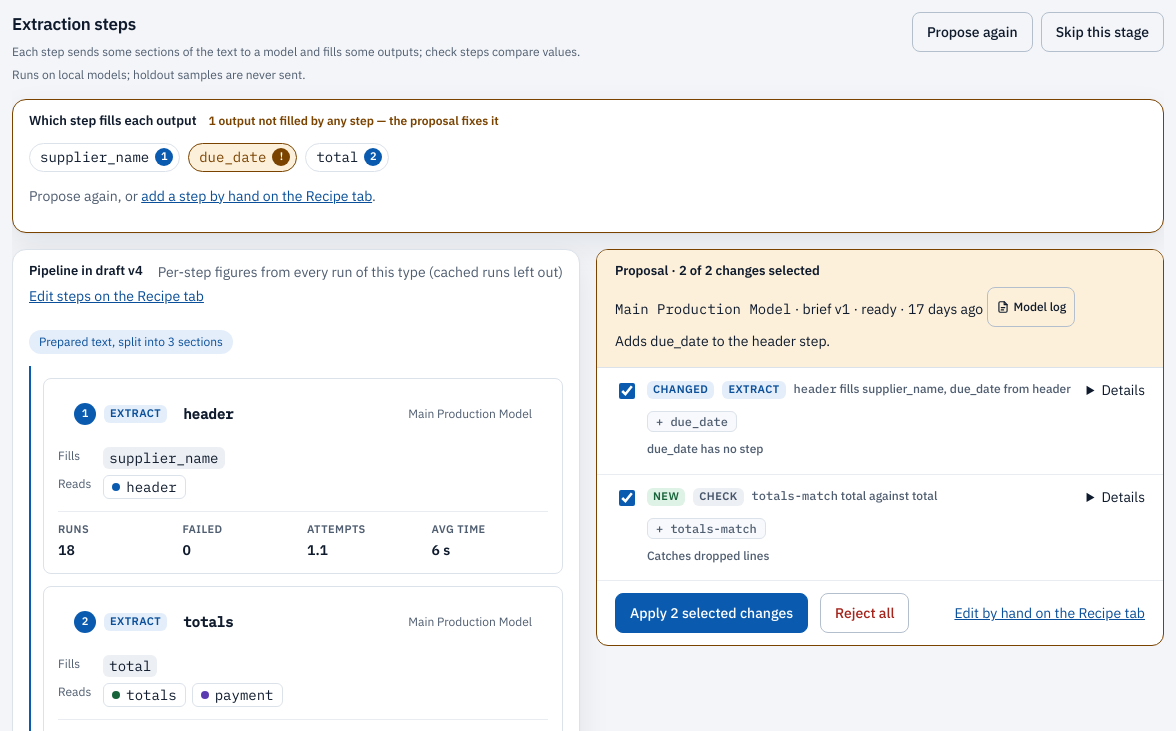
Scenario: Steps tab › shows which step fills each output and whether the proposal fixes the gaps
The width and height of the screenshot is (1176, 731).
Expected: the text "1 output not filled by any step — the proposal fixes it" is shown, left=208, top=112, right=499, bottom=130
Expected: the text "due_date" is shown, left=199, top=147, right=266, bottom=168
Click the checkbox named "Apply: EXTRACT header fills supplier_name, due_date from header" at [627, 391], box left=619, top=383, right=635, bottom=399
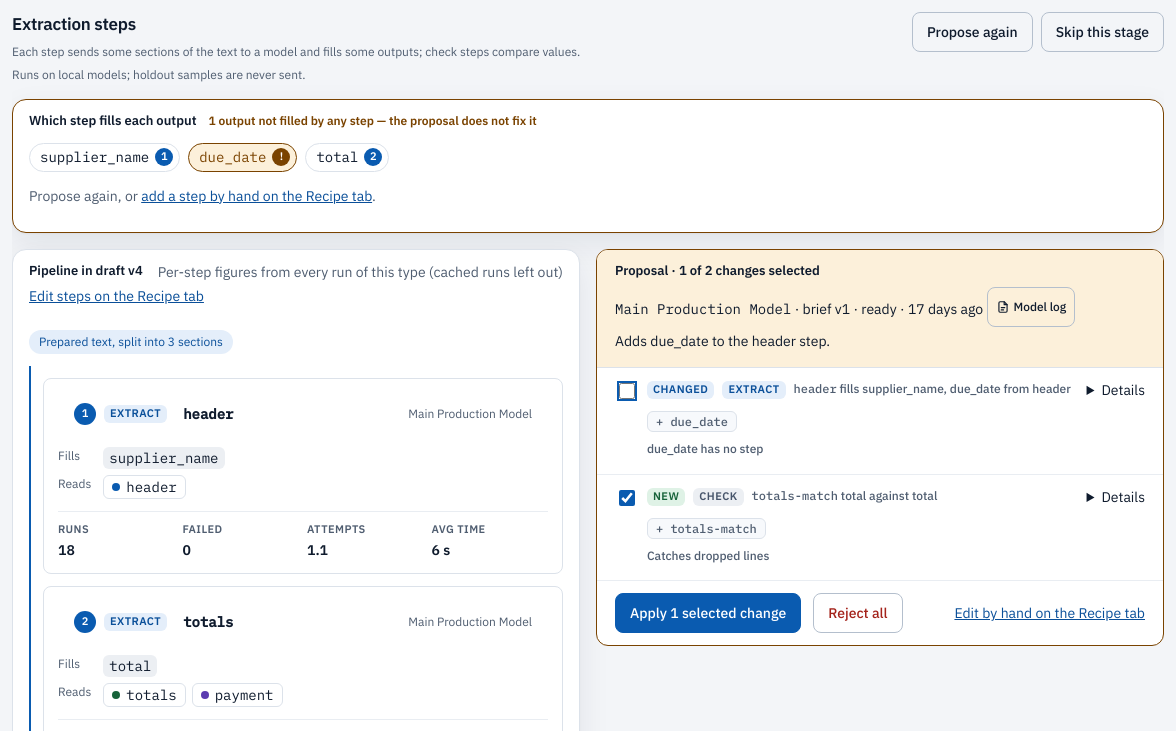
Expected: the text "1 output not filled by any step — the proposal does not fix it" is shown, left=208, top=112, right=537, bottom=130
